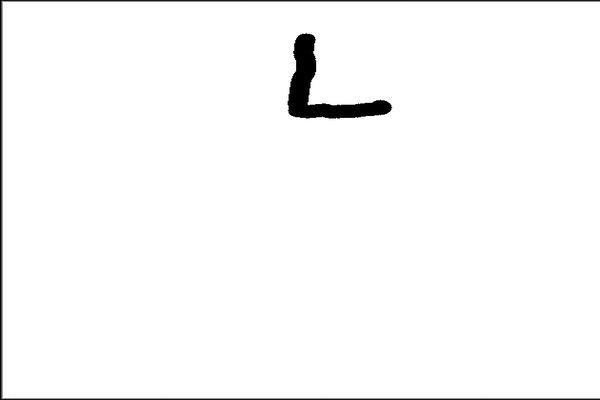L: (278, 28, 398, 120)
